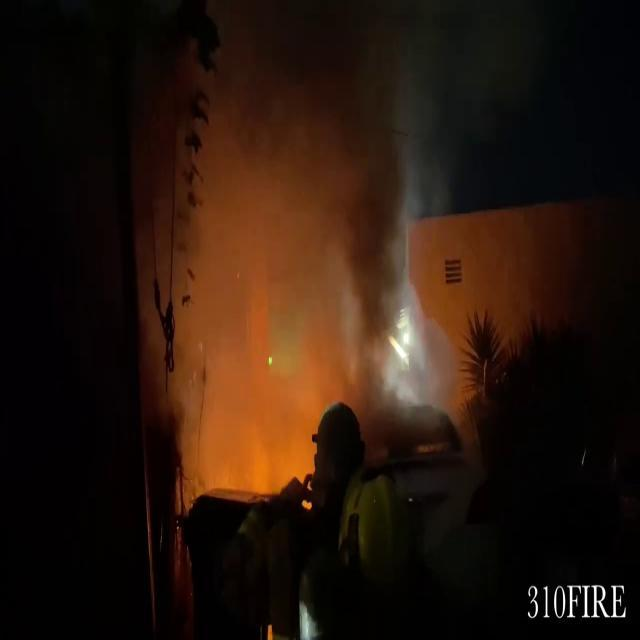Smoke: (141, 21, 413, 498)
